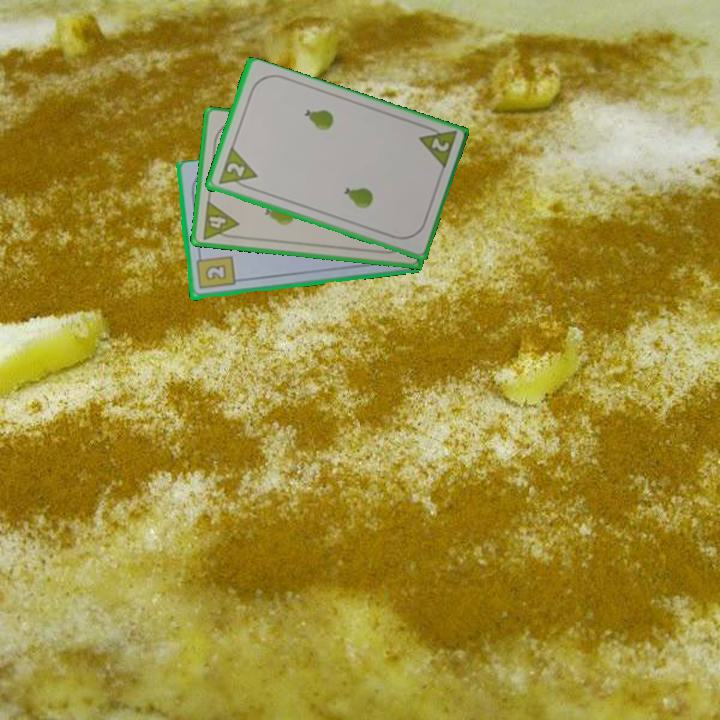2b: (192, 250, 237, 292)
2p: (415, 121, 459, 173), (222, 159, 248, 180)
4p: (198, 198, 241, 242)
